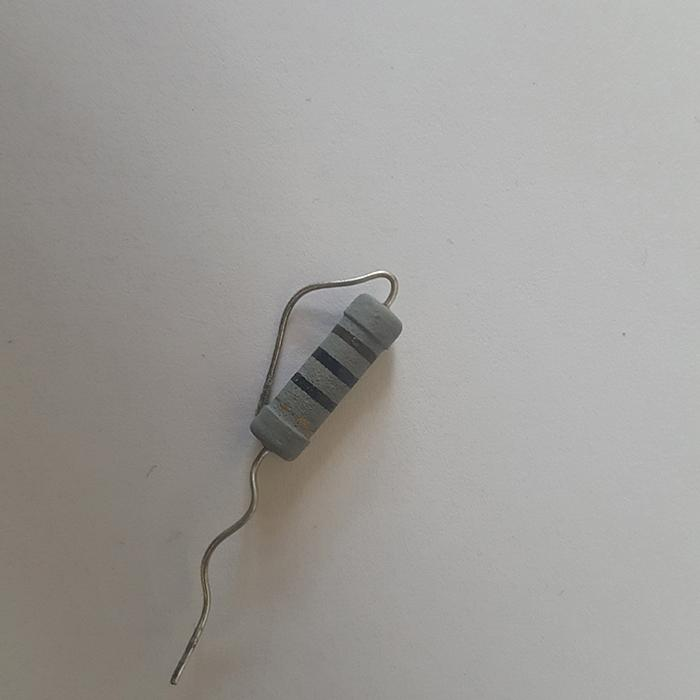resistor: (251, 290, 404, 461)
